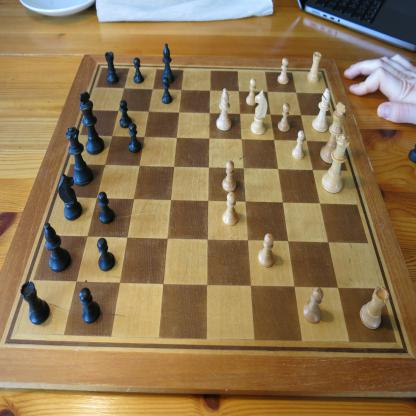black-bishop: (42, 220, 74, 276), (158, 42, 178, 83)
black-king: (78, 90, 106, 156)
black-knight: (57, 173, 84, 222)
black-pawn: (78, 286, 101, 328), (96, 233, 116, 275), (95, 189, 117, 227), (126, 124, 142, 155), (130, 56, 146, 85), (118, 98, 132, 131), (160, 77, 173, 107)
black-queen: (64, 126, 96, 187)
black-rook: (20, 280, 51, 329), (104, 50, 121, 86)
white-bishop: (212, 84, 235, 134), (311, 87, 334, 131)
white-king: (320, 101, 346, 165)
white-knight: (249, 90, 271, 137)
white-pawn: (302, 286, 326, 326), (258, 230, 278, 271), (221, 190, 242, 227), (220, 160, 240, 194), (290, 130, 308, 164), (276, 101, 294, 135), (277, 53, 291, 86), (245, 78, 258, 107)
white-queen: (318, 130, 352, 195)
white-rook: (358, 283, 390, 330), (306, 50, 324, 85)
